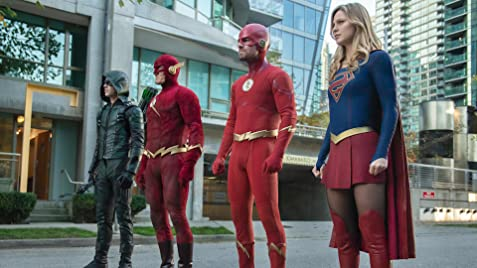Bad: (82, 49, 204, 268)
Caution: (214, 2, 399, 267), (143, 23, 297, 268)
